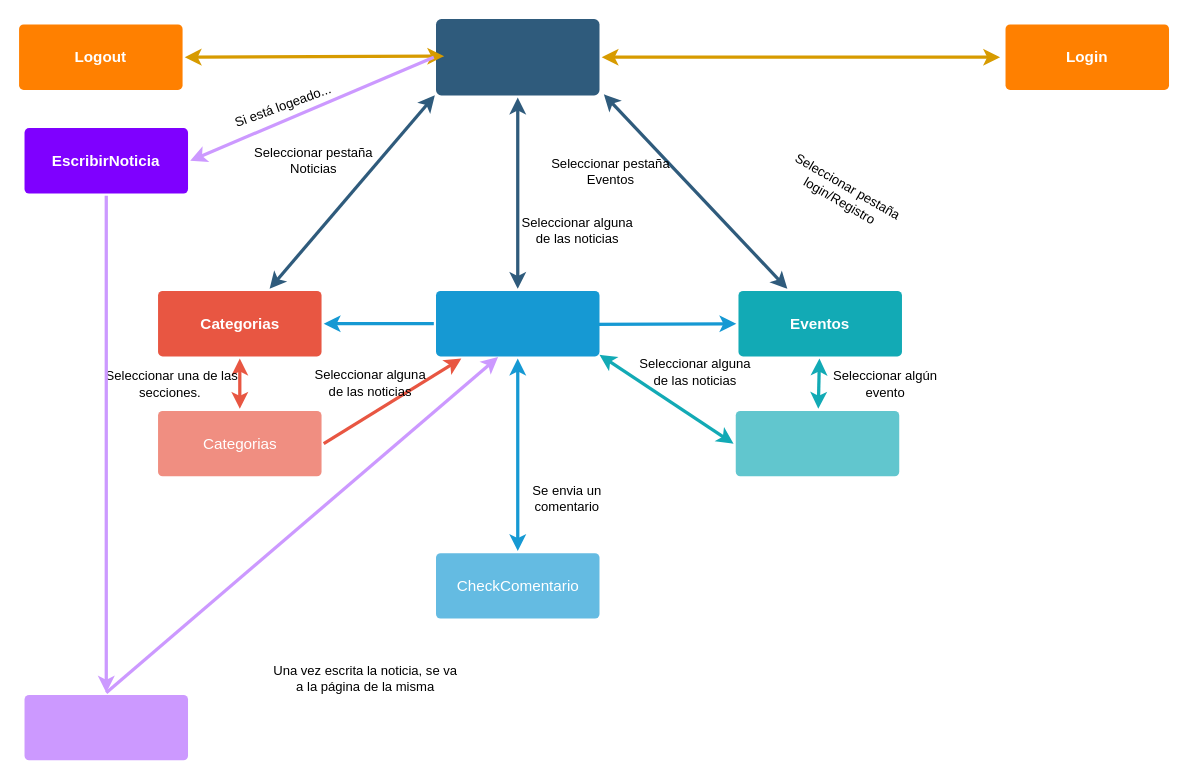
Image size: 1187x778. Some labels were removed from this diagram. The shapes that lost their labels are listed below. From the top down, each one's centre as x and y in pixels, then its label:
At (x=517, y=57): "Portada".
At (x=517, y=323): "Noticia".
At (x=817, y=443): "Evento".
At (x=105, y=727): "CheckNoticia".
